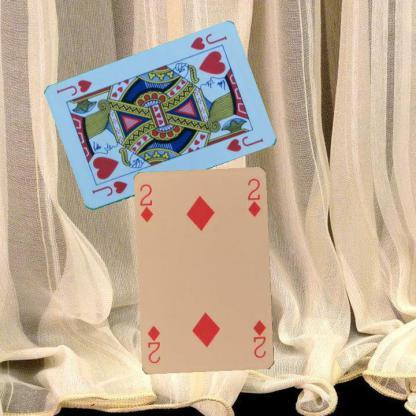2d: (250, 318, 268, 360), (138, 182, 154, 224)
Jh: (187, 31, 228, 52), (89, 178, 129, 198)
